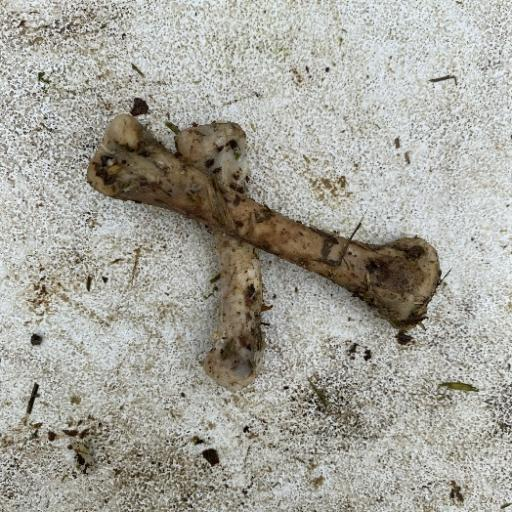Waste: (2, 2, 509, 510), (84, 110, 445, 391)
